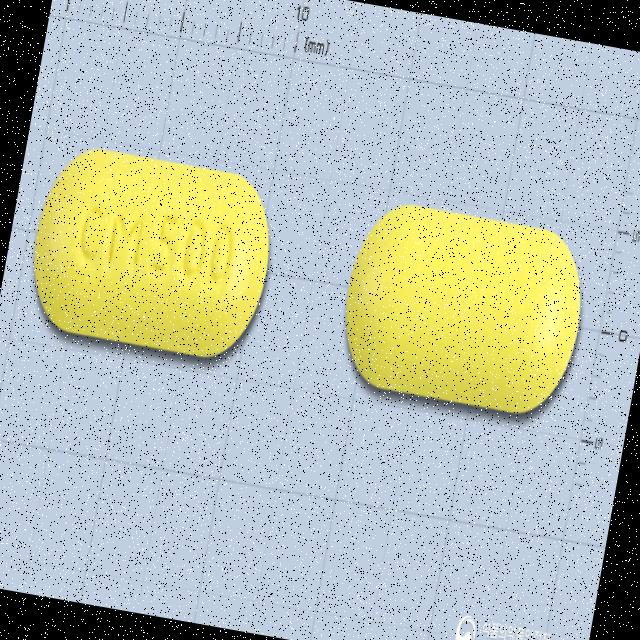Claricin: (328, 190, 600, 432), (15, 134, 287, 372)
